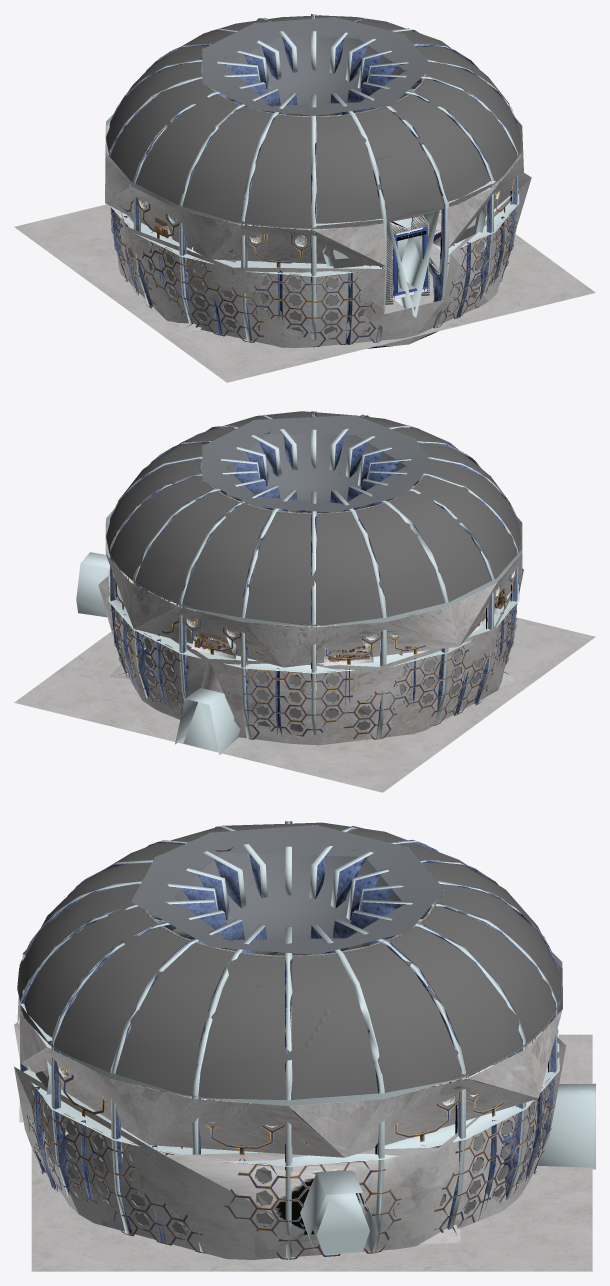
Rendered from room.obj.
3 views of the same model, one above another, from view 1: azimuth 30°, elevation 25°; view 2: azimuth 150°, elevation 25°; view 3: azimuth 270°, elevation 25° (orthographic). The views are drawn at different scales.
Visible parts, largest first — view 1: 2.Room, 3.Beams, 9.Capaldi_Extras, 1.Exterior_Front_Frame; view 2: 2.Room, 3.Beams, 9.Capaldi_Extras, 4.Lower_Levels; view 3: 2.Room, 3.Beams, 4.Lower_Levels, 9.Capaldi_Extras.
Boxes of the visible parts, x1=… form: 2.Room: x1=14, y1=15, x2=595, y2=382; 3.Beams: x1=109, y1=14, x2=517, y2=344; 9.Capaldi_Extras: x1=111, y1=91, x2=516, y2=336; 1.Exterior_Front_Frame: x1=393, y1=226, x2=427, y2=294; 2.Room: x1=14, y1=411, x2=595, y2=792; 3.Beams: x1=110, y1=411, x2=517, y2=755; 9.Capaldi_Extras: x1=115, y1=588, x2=516, y2=733; 4.Lower_Levels: x1=76, y1=552, x2=517, y2=687; 2.Room: x1=14, y1=822, x2=592, y2=1271; 3.Beams: x1=19, y1=821, x2=595, y2=1258; 4.Lower_Levels: x1=300, y1=1075, x2=469, y2=1254; 9.Capaldi_Extras: x1=29, y1=1025, x2=549, y2=1235.
Size of the model in its own units: 18.17 by 9.21 by 17.57.
Materials: 7 (7 with a texture image).
